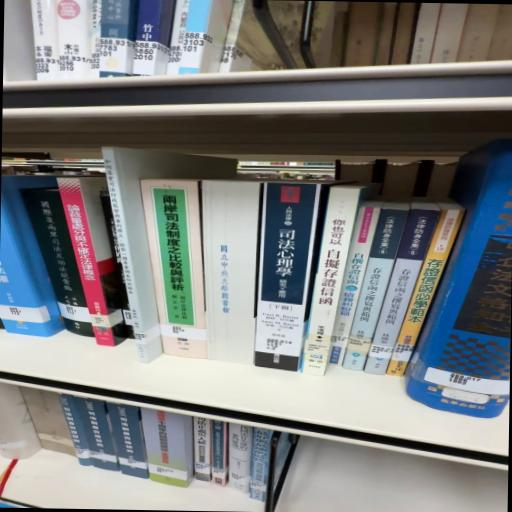backward: (203, 181, 263, 367)
book: (1, 164, 126, 340), (137, 178, 210, 360)
